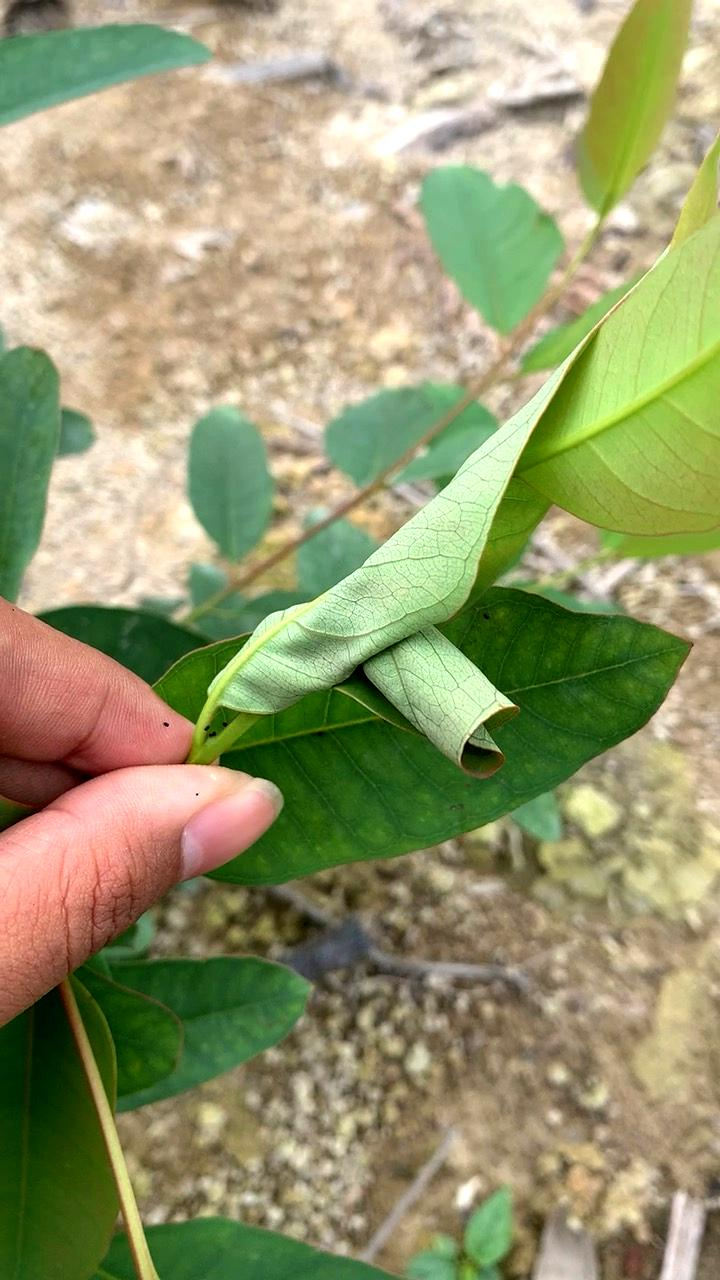Leaf Roller - Leaf: (286, 530, 539, 792)
